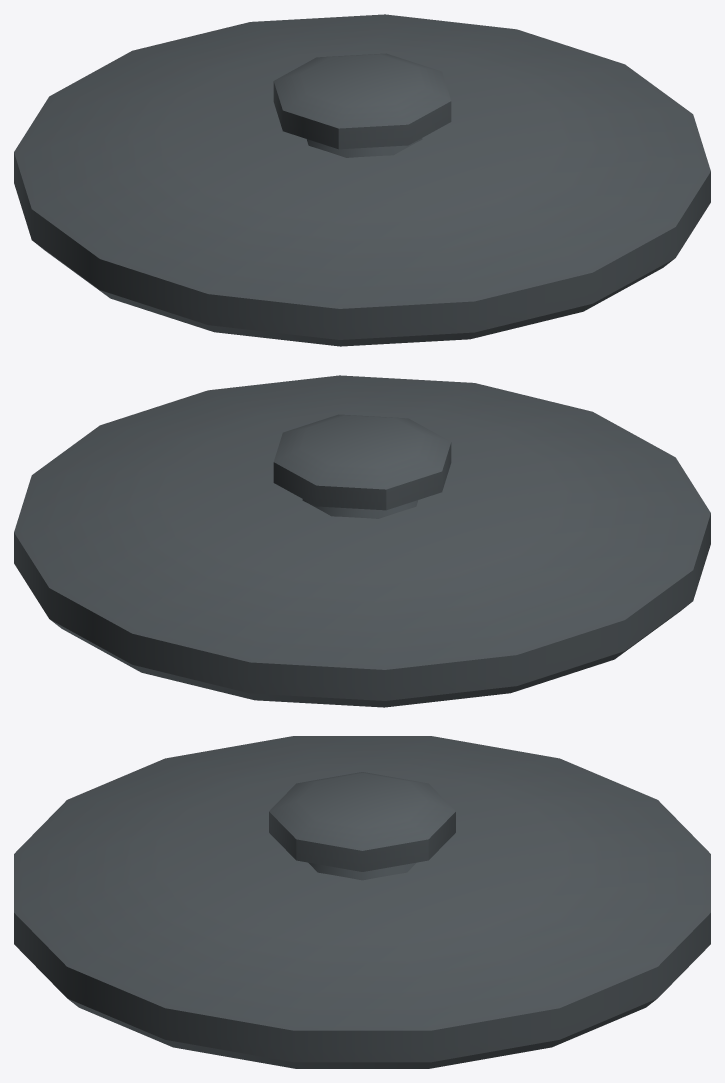
The model's file is Lid B.glb.
The picture shows the model from 3 angles, top to bottom: view 1: azimuth 30°, elevation 25°; view 2: azimuth 150°, elevation 25°; view 3: azimuth 270°, elevation 25°; orthographic projection.
Parts seen in each view (by area): view 1: lid_B; view 2: lid_B; view 3: lid_B.
Part boxes in pixels (x1,y1,x2,y2): lid_B: (14,14,710,346); lid_B: (14,375,710,707); lid_B: (14,736,710,1068).
Size of the model in its own units: 1 by 0.2004 by 1.
1 material, 1 textured.
